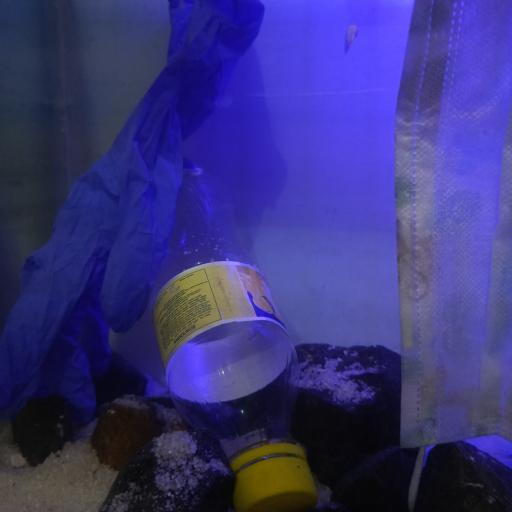bottle_cap: (230, 458, 320, 512)
glove: (0, 0, 267, 422)
mask: (391, 0, 512, 512)
plastic_bottle: (143, 153, 319, 512)
